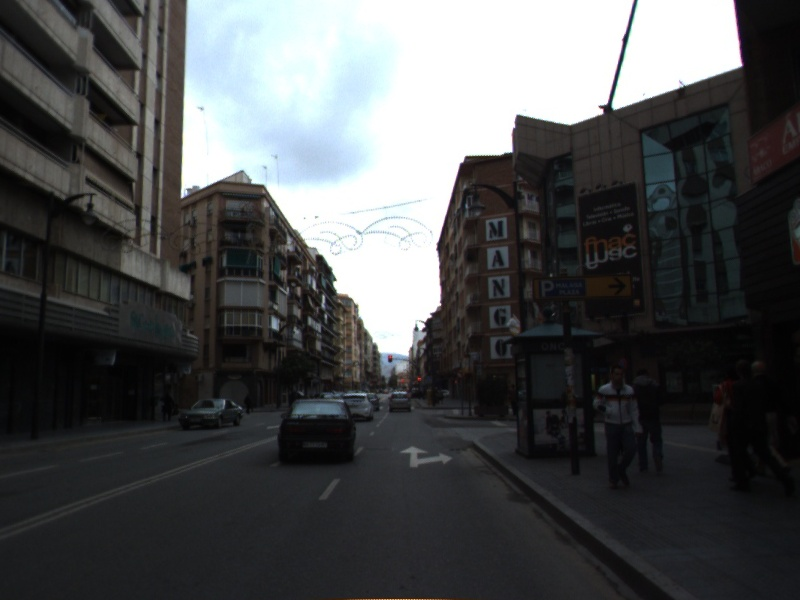STRAIGHT_RIGHT: (398, 444, 455, 469)
